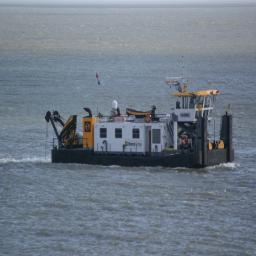tugboat: (45, 76, 239, 178)
